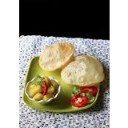poori: (65, 55, 105, 84), (39, 42, 74, 70)
